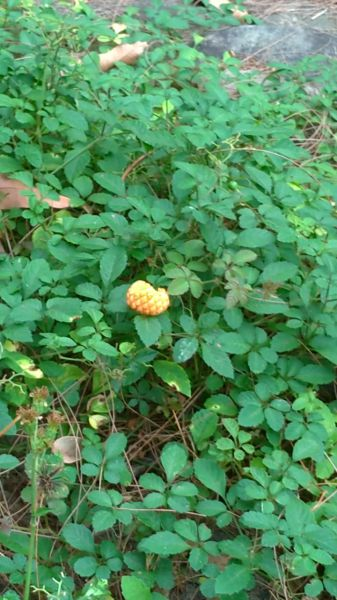eggs: (122, 273, 176, 319)
